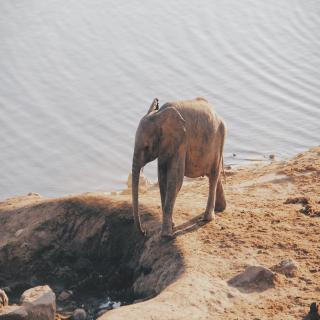Elephant: (130, 93, 232, 238)
